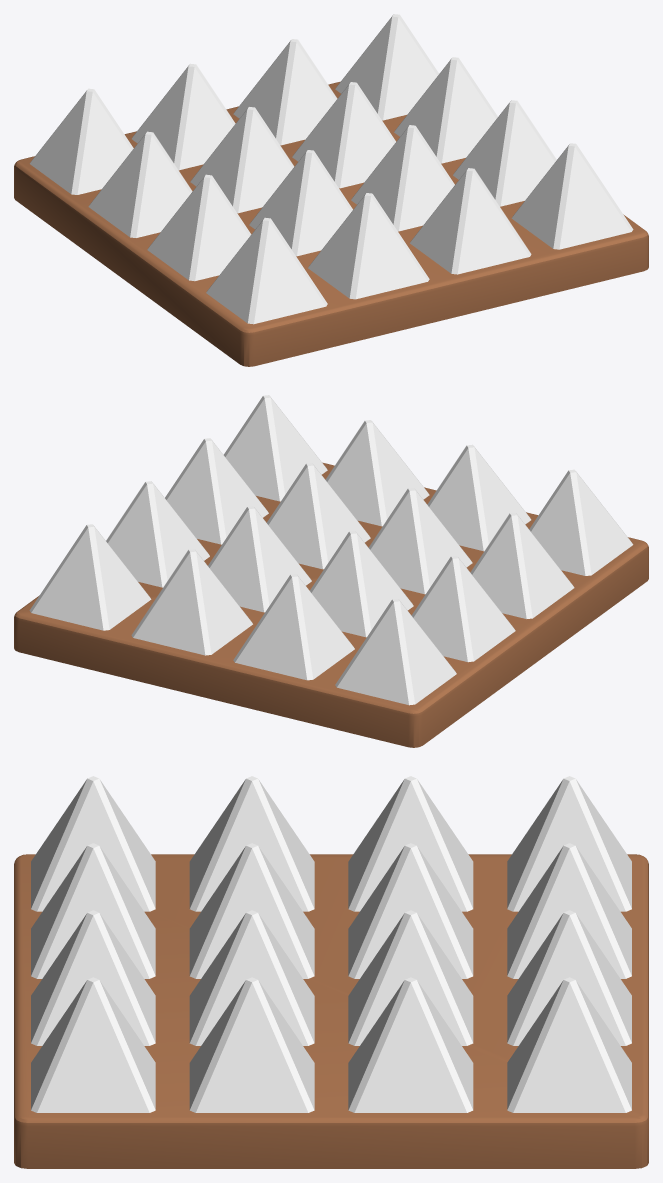
Rendered from spike.fbx.
3 views of the same model, one above another, from view 1: azimuth 30°, elevation 25°; view 2: azimuth 150°, elevation 25°; view 3: azimuth 270°, elevation 25° (orthographic). The views are drawn at different scales.
Visible parts, largest first — view 1: Plane, Cube.023, Cube.029, Cube.030, Cube.024, Cube.019, Cube.022, Cube.026, Cube.021, Cube.027, Cube.018, Cube.017 (+5 smaller); view 2: Plane, Cube.019, Cube.017, Cube.018, Cube.020, Cube.023, Cube.026, Cube.022, Cube.025, Cube, Cube.030, Cube.021 (+5 smaller); view 3: Plane, Cube.021, Cube.025, Cube.020, Cube.024, Cube, Cube.027, Cube.016, Cube.028, Cube.022, Cube.026, Cube.019 (+5 smaller).
Part boxes in pixels (x1,y1,x2,y2): Plane: [14, 81, 648, 366]; Cube.023: [206, 217, 327, 324]; Cube.029: [308, 193, 429, 299]; Cube.030: [410, 168, 531, 274]; Cube.024: [511, 143, 633, 249]; Cube.019: [29, 88, 133, 194]; Cube.022: [88, 131, 192, 237]; Cube.026: [147, 174, 251, 281]; Cube.021: [394, 57, 497, 163]; Cube.027: [351, 125, 454, 231]; Cube.018: [233, 39, 337, 145]; Cube.017: [131, 63, 235, 170]; Plane: [14, 462, 648, 747]; Cube.019: [335, 598, 456, 705]; Cube.017: [233, 574, 354, 680]; Cube.018: [131, 549, 252, 655]; Cube.020: [29, 524, 151, 630]; Cube.023: [529, 469, 633, 575]; Cube.026: [470, 512, 574, 618]; Cube.022: [411, 555, 515, 662]; Cube.025: [165, 438, 268, 544]; Cube: [208, 506, 311, 612]; Cube.030: [325, 420, 429, 526]; Cube.021: [106, 481, 209, 587]; Plane: [14, 854, 648, 1168]; Cube.021: [348, 977, 473, 1112]; Cube.025: [189, 977, 314, 1112]; Cube.020: [507, 977, 631, 1112]; Cube.024: [31, 977, 155, 1112]; Cube: [348, 910, 473, 1045]; Cube.027: [189, 910, 314, 1045]; Cube.016: [348, 843, 473, 978]; Cube.028: [189, 843, 314, 978]; Cube.022: [348, 776, 473, 911]; Cube.026: [189, 776, 314, 911]; Cube.019: [507, 776, 631, 911].
Bounding box in the file's own units: 1000 × 270 × 1000.
